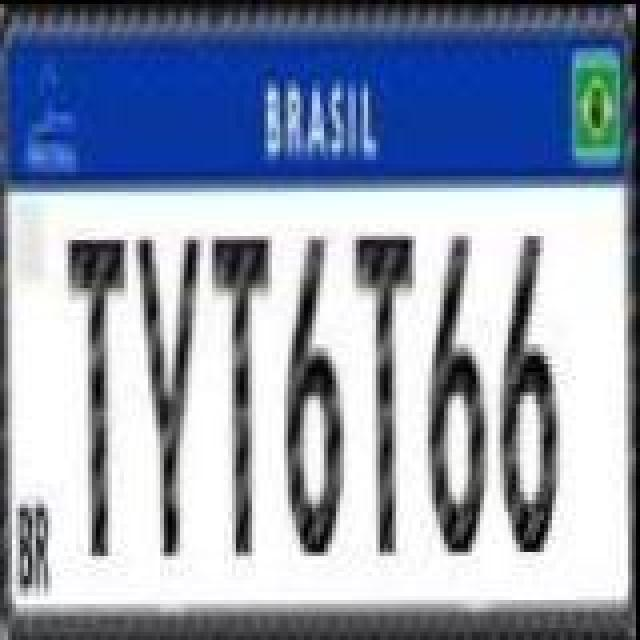6: (422, 224, 490, 560), (494, 224, 562, 560), (282, 232, 350, 556)
T: (210, 228, 278, 564), (354, 220, 422, 556), (66, 234, 134, 558)
Y: (136, 234, 208, 558)
